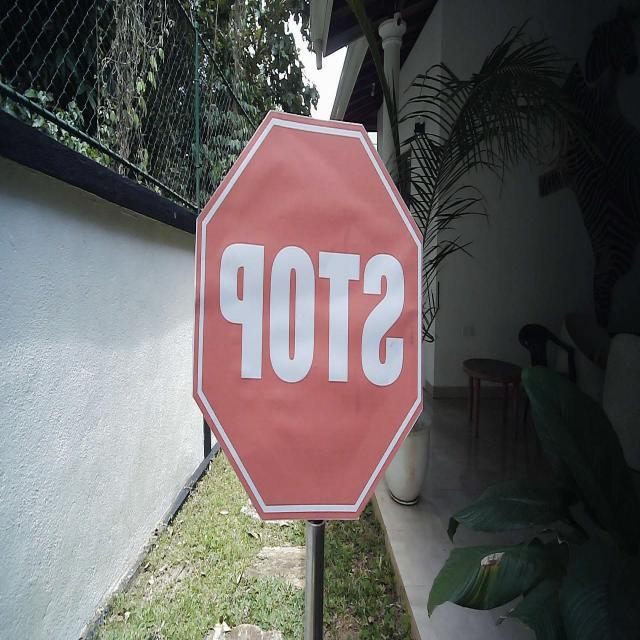stop: (190, 104, 424, 524)
